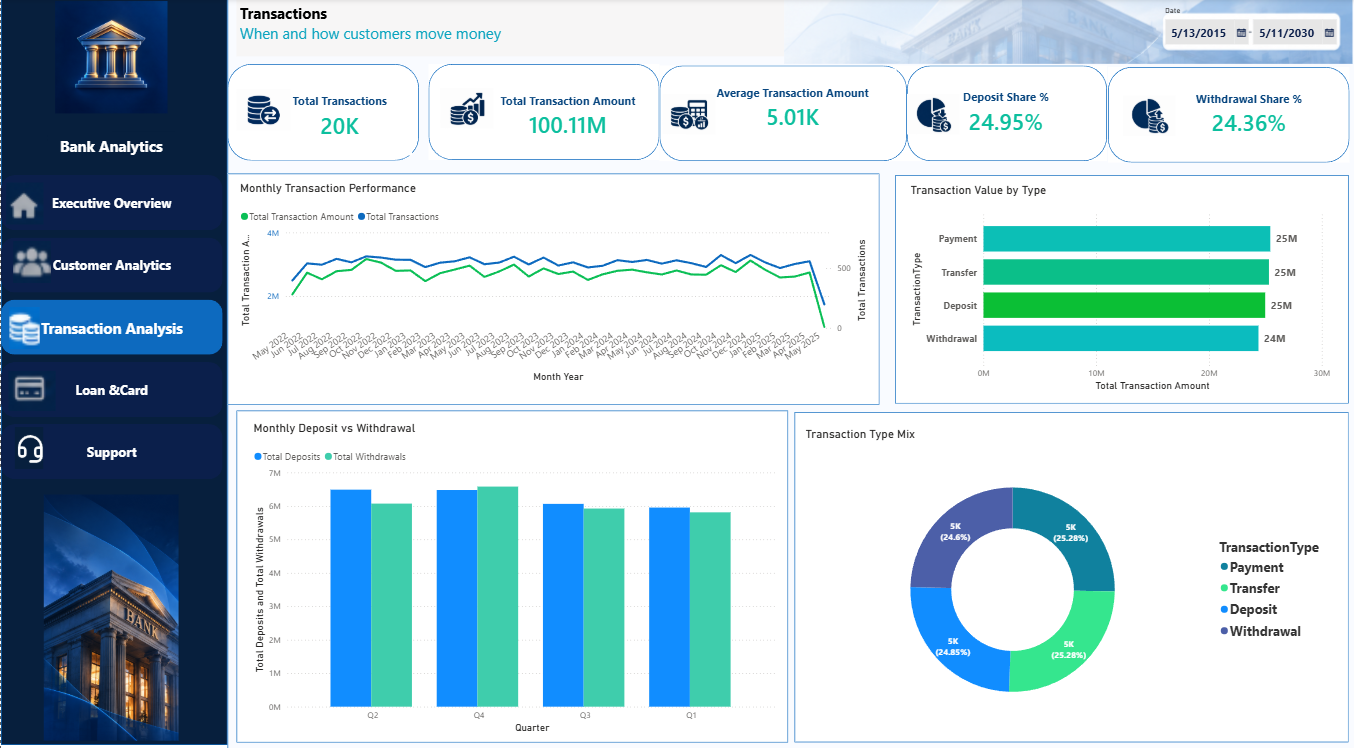

The dashboard page shown, as its layout file describes it:
{"tool":"powerbi","page":{"name":"Transaction Analysis","canvas":[1940,1078],"ordinal":2},"visuals":[{"type":"shape","box":[0,0,323.8,1068],"z":0},{"type":"shape","box":[323.8,0,1617,1076.6],"z":1000},{"type":"image","box":[-1.5,709.3,319.5,351.7],"z":1000,"group":"g10"},{"type":"textbox","box":[336.7,2.1,1207.4,81.5],"z":2000},{"type":"group","id":"g1","title":"Group 1","box":[1278.2,253.1,649.8,326],"z":3000},{"type":"group","id":"g2","title":"Group 2","box":[323.8,250.9,930.8,330.3],"z":4000},{"type":"group","id":"g3","title":"Group 5","box":[336.7,589.8,789.2,474],"z":5000},{"type":"group","id":"g4","title":"Group 6","box":[1134.5,591.9,791.4,474],"z":6000},{"type":"group","id":"g5","title":"Group 7","box":[1582.7,98.7,345.2,136.7],"z":7000},{"type":"group","id":"g6","title":"Group 8","box":[1295.3,96.5,285.2,137.3],"z":8000},{"type":"group","id":"g7","title":"Group 9","box":[941.5,96.5,353.7,136.7],"z":9000},{"type":"shape","box":[323.8,94.4,273.7,138.2],"z":10000,"group":"g9"},{"type":"group","id":"g8","title":"Group 10","box":[611.2,94.4,330.3,137.3],"z":10000},{"type":"group","id":"g9","title":"Group 11","box":[323.8,94.4,273.7,138.2],"z":11000},{"type":"shape","box":[611.2,94.4,330.3,137.3],"z":11000,"group":"g8"},{"type":"shape","box":[941.5,96.5,353.7,136.7],"z":12000,"group":"g7"},{"type":"textbox","box":[66.5,190.9,182.2,59.3],"z":12000},{"type":"shape","box":[1295.3,96.5,285.9,136.7],"z":13000,"group":"g6"},{"type":"group","id":"g10","title":"Group 12","box":[-1.5,709.3,319.5,351.7],"z":13000},{"type":"shape","box":[1582.7,98.7,345.2,136.7],"z":14000,"group":"g5"},{"type":"pageNavigator","box":[0,253.1,317.4,435.4],"z":14000},{"type":"image","box":[10.7,4.3,293.8,160.8],"z":15000},{"type":"shape","box":[1134.5,591.9,792.3,472.3],"z":16000,"group":"g4"},{"type":"image","box":[6.4,613.4,67.5,60],"z":16000},{"type":"shape","box":[1278.2,253.1,648.7,326.9],"z":17000,"group":"g1"},{"type":"image","box":[10.7,531.9,67.5,60],"z":17000},{"type":"image","box":[10.7,347.4,67.5,60],"z":18000},{"type":"shape","box":[336.7,589.8,788.8,474.8],"z":18000,"group":"g3"},{"type":"shape","box":[323.8,250.9,932.2,330.9],"z":19000,"group":"g2"},{"type":"image","box":[0,263.8,67.5,60],"z":19000},{"type":"image","box":[0,441.8,67.5,60],"z":20000},{"type":"image","box":[336.7,98.7,77.2,122.2],"z":21000},{"type":"image","box":[628.4,96.5,75.1,122.2],"z":22000},{"type":"image","box":[945.8,105.1,75.1,122.2],"z":23000},{"type":"image","box":[1295.3,105.1,75.1,122.2],"z":24000},{"type":"image","box":[1604.2,107.2,75.1,122.2],"z":25000},{"type":"image","box":[1113.1,2.1,827.8,92.2],"z":26000},{"type":"slicer","fields":{"Values":["DimDate.Date"]},"box":[1651.3,6.4,276.7,83.6],"z":27000},{"type":"cardVisual","fields":{"Data":["calculated_table.Total Transactions"]},"box":[382.1,112.9,205.9,111.5],"z":28000,"group":"g9"},{"type":"cardVisual","fields":{"Data":["calculated_table.Total Transaction Amount"]},"box":[683.7,123.6,253.1,87.9],"z":29000,"group":"g8"},{"type":"cardVisual","fields":{"Data":["calculated_table.Deposit Share %"]},"box":[1309.6,105.9,253.2,117.8],"z":30000,"group":"g6"},{"type":"cardVisual","fields":{"Data":["calculated_table.Average Transaction Amount"]},"box":[983.4,101.8,296,113.7],"z":31000,"group":"g7"},{"type":"cardVisual","fields":{"Data":["calculated_table.Withdrawal Share %"]},"box":[1673.4,108,223,118],"z":32000,"group":"g5"},{"type":"lineChart","title":"Monthly Transaction Performance","fields":{"Category":["DimDate.Month Year"],"Y":["calculated_table.Total Transaction Amount"],"Y2":["calculated_table.Total Transactions"]},"box":[336.8,262.1,904.6,292],"z":37000,"group":"g2"},{"type":"clusteredBarChart","title":" Transaction Value by Type","fields":{"Y":["calculated_table.Total Transaction Amount"],"Category":["Transactions.TransactionType"]},"box":[1295.6,263.2,609.7,303.6],"z":38000,"group":"g1"},{"type":"clusteredColumnChart","title":"Monthly Deposit vs Withdrawal","fields":{"Category":["DimDate.Quarter"],"Y":["calculated_table.Total Deposits","calculated_table.Total Withdrawals"]},"box":[356.1,604.1,757.6,451.5],"z":38001,"group":"g3"},{"type":"donutChart","title":" Transaction Type Mix","fields":{"Category":["Transactions.TransactionType"],"Y":["calculated_table.Total Transactions"]},"box":[1146.2,614.3,768.5,434.7],"z":38002,"group":"g4"}]}

Visuals, with their boxes in screenshot pixels (x1, y1, x2, y2), scaled from the page's 1940x1078 canvas onto the 1354x748 screenshot:
shape: [0,0,226,741]
shape: [226,0,1353,747]
image: [0,492,222,736]
textbox: [235,1,1078,58]
"Group 1" group: [892,176,1346,402]
"Group 2" group: [226,174,876,403]
"Group 5" group: [235,409,786,738]
"Group 6" group: [792,411,1344,740]
"Group 7" group: [1105,68,1346,163]
"Group 8" group: [904,67,1103,162]
"Group 9" group: [657,67,904,162]
shape: [226,66,417,161]
"Group 10" group: [427,66,657,161]
"Group 11" group: [226,66,417,161]
shape: [427,66,657,161]
shape: [657,67,904,162]
textbox: [46,132,174,174]
shape: [904,67,1104,162]
"Group 12" group: [0,492,222,736]
shape: [1105,68,1346,163]
pageNavigator: [0,176,222,478]
image: [7,3,213,115]
shape: [792,411,1345,738]
image: [4,426,52,467]
shape: [892,176,1345,402]
image: [7,369,55,411]
image: [7,241,55,283]
shape: [235,409,786,739]
shape: [226,174,877,404]
image: [0,183,47,225]
image: [0,307,47,348]
image: [235,68,289,153]
image: [439,67,491,152]
image: [660,73,713,158]
image: [904,73,956,158]
image: [1120,74,1172,159]
image: [777,1,1353,65]
slicer - DimDate.Date: [1153,4,1346,62]
cardVisual - calculated_table.Total Transactions: [267,78,410,156]
cardVisual - calculated_table.Total Transaction Amount: [477,86,654,147]
cardVisual - calculated_table.Deposit Share %: [914,73,1091,155]
cardVisual - calculated_table.Average Transaction Amount: [686,71,893,150]
cardVisual - calculated_table.Withdrawal Share %: [1168,75,1324,157]
"Monthly Transaction Performance" lineChart: [235,182,866,384]
" Transaction Value by Type" clusteredBarChart: [904,183,1330,393]
"Monthly Deposit vs Withdrawal" clusteredColumnChart: [249,419,777,732]
" Transaction Type Mix" donutChart: [800,426,1336,728]
